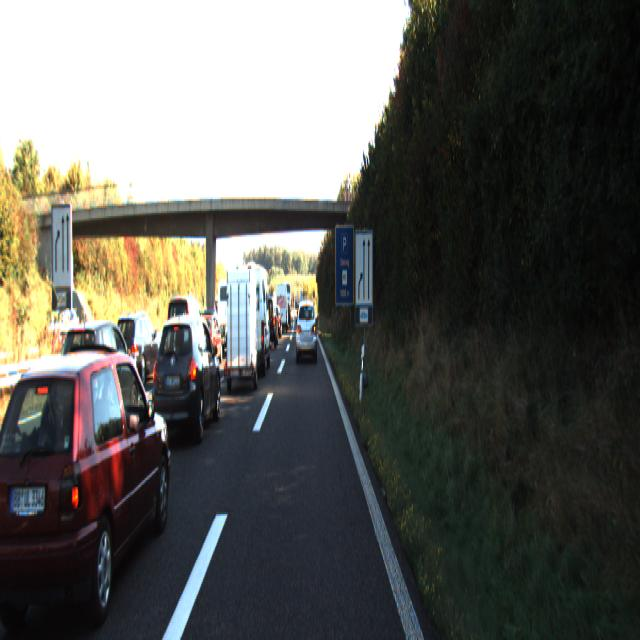Car: (0, 340, 176, 638), (55, 316, 143, 448), (151, 310, 222, 446), (112, 310, 163, 387), (196, 313, 223, 368), (295, 297, 317, 361), (259, 294, 278, 348)
Misc: (220, 265, 260, 393)
Van: (234, 261, 271, 375), (166, 292, 210, 386), (275, 281, 288, 329)
